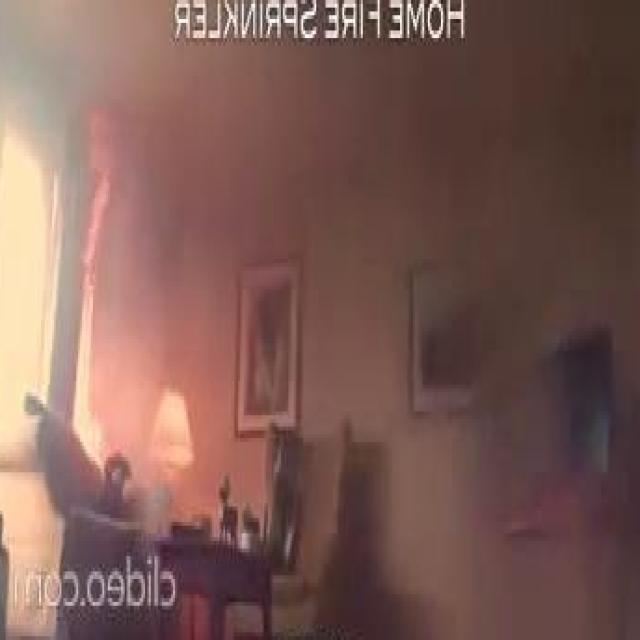smoke: (68, 122, 130, 461)
